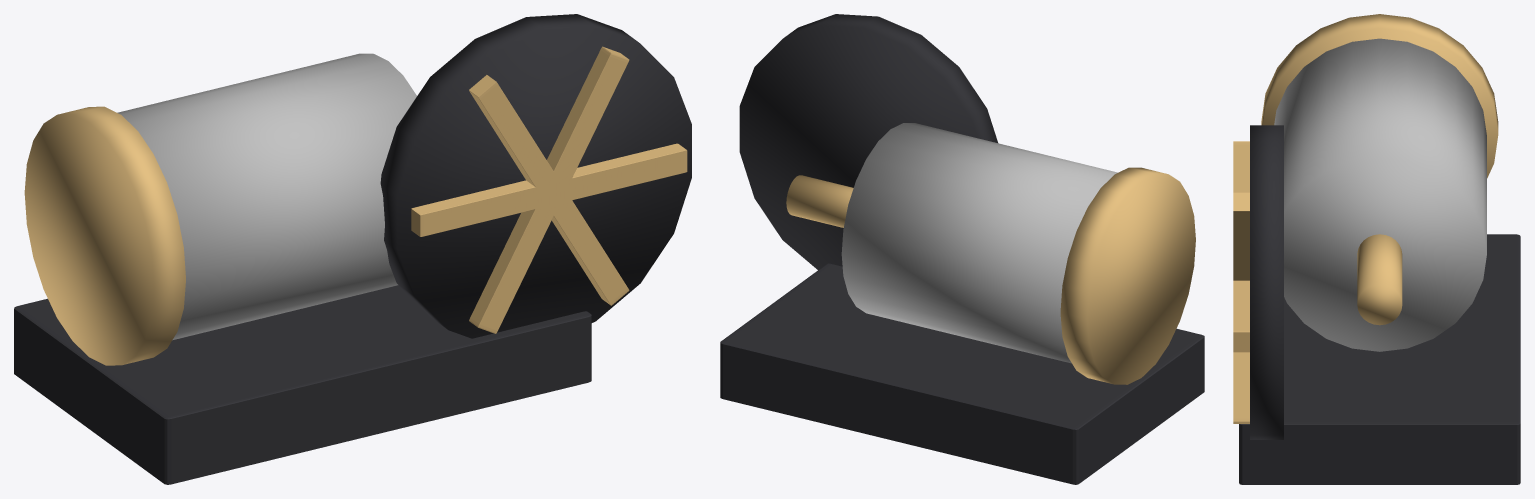
The model's file is engine.glb.
The picture shows the model from 3 angles, left to right: view 1: azimuth 30°, elevation 25°; view 2: azimuth 150°, elevation 25°; view 3: azimuth 270°, elevation 25°; orthographic projection. The views are drawn at different scales.
Visible parts, largest first — view 1: machines/engine; view 2: machines/engine; view 3: machines/engine.
Part boxes in pixels (bbox=[...]): machines/engine: bbox=[14, 14, 691, 484]; machines/engine: bbox=[720, 14, 1204, 484]; machines/engine: bbox=[1233, 14, 1520, 484].
Bounding box in the file's own units: 0.9957 × 0.64 × 0.51.
